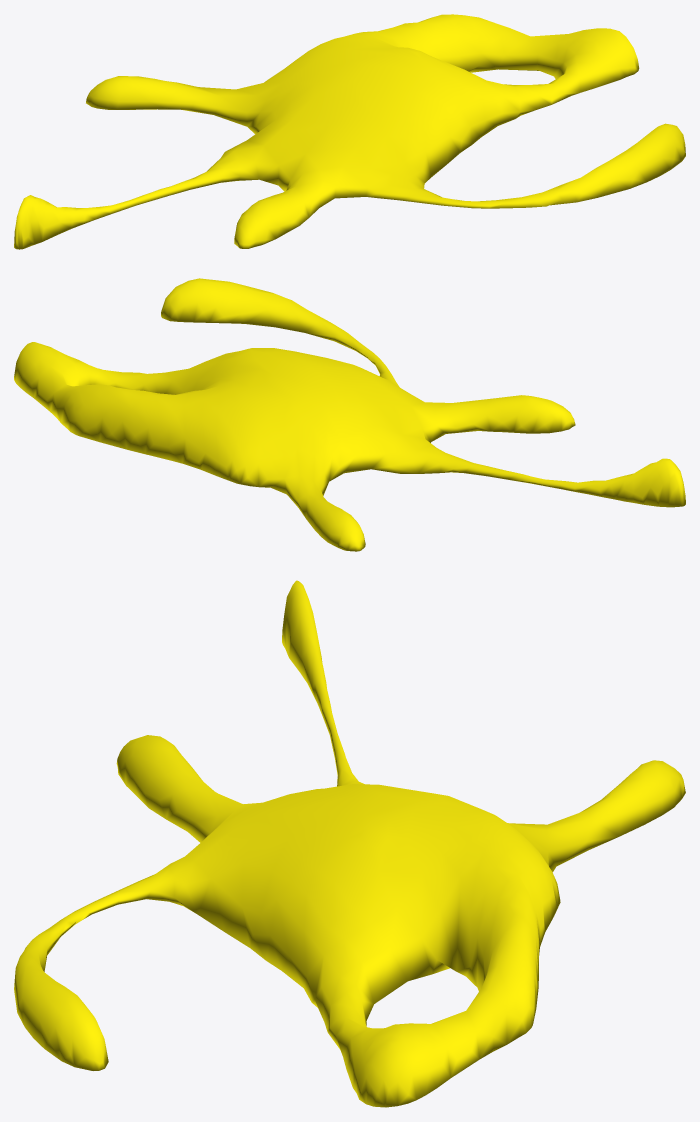
The model's file is puddle-3.glb.
3 views of the same model, one above another, from view 1: azimuth 30°, elevation 25°; view 2: azimuth 150°, elevation 25°; view 3: azimuth 270°, elevation 25° (orthographic). The views are drawn at different scales.
Parts seen in each view (by area): view 1: CurveFluidGround3; view 2: CurveFluidGround3; view 3: CurveFluidGround3.
Boxes of the visible parts, x1,y1,x2,y2 form: CurveFluidGround3: (14,14,685,249); CurveFluidGround3: (14,278,685,551); CurveFluidGround3: (14,580,685,1107).
Bounding box in the file's own units: 0.5896 × 0.066 × 0.3569.
